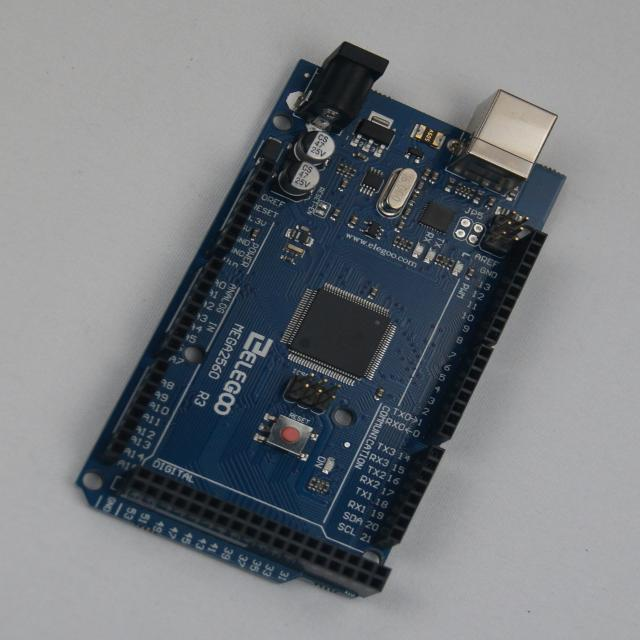Arduino Mega 2560 -Blue-: (78, 43, 564, 598)
